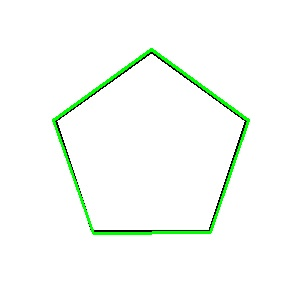line_segment: (53, 49, 249, 234)
